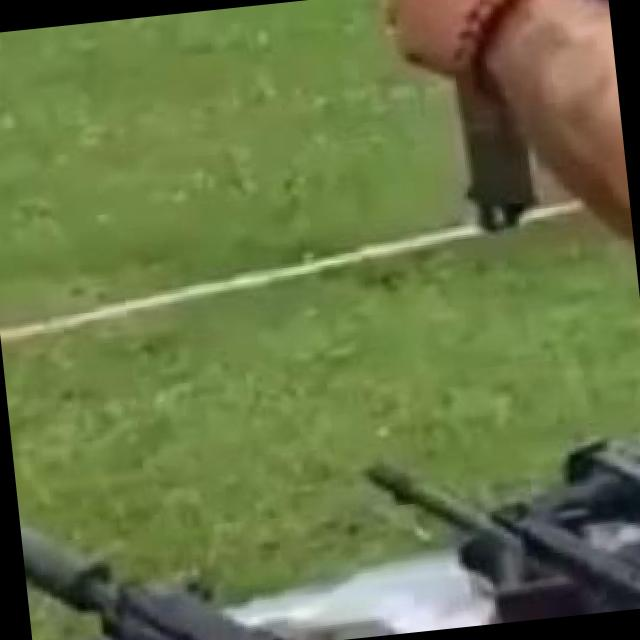Guns: (294, 0, 572, 257)
